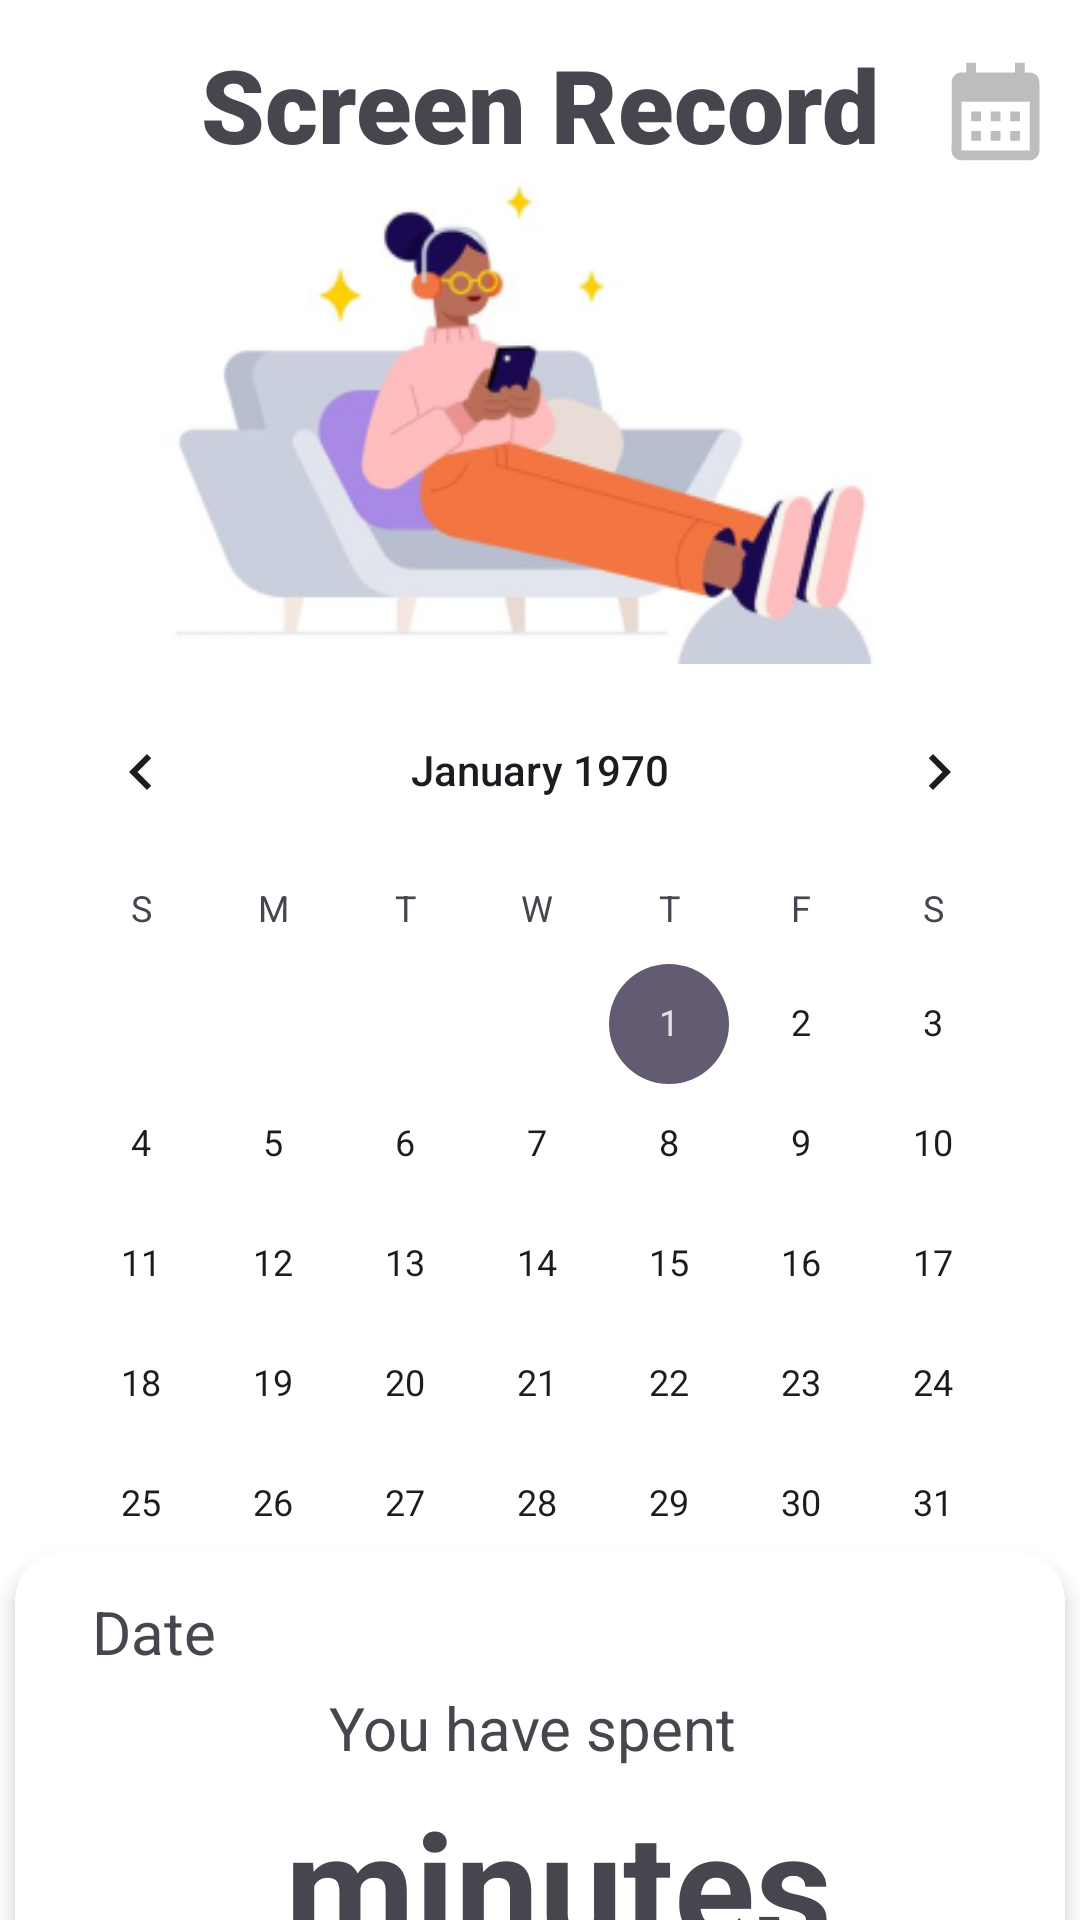

Screen size 1080px x 1920px. Icon name, then its box in pixels as [x1,y1,x2,y2]:
calendar: [951,63,1040,160]
